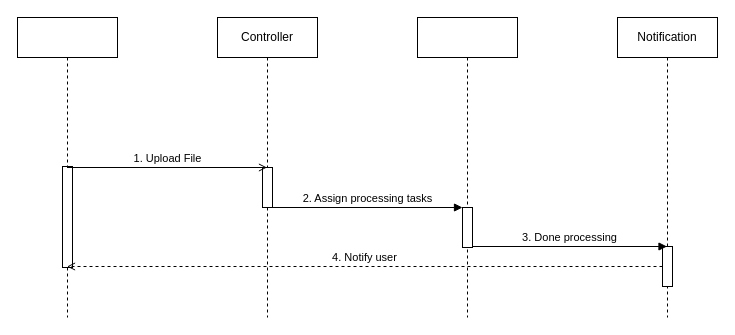
This 735x335 diagram has some shape labels left out. Each missing label, with the box of its shape:
Client: (16, 16, 118, 318)
Processors: (416, 16, 518, 318)
